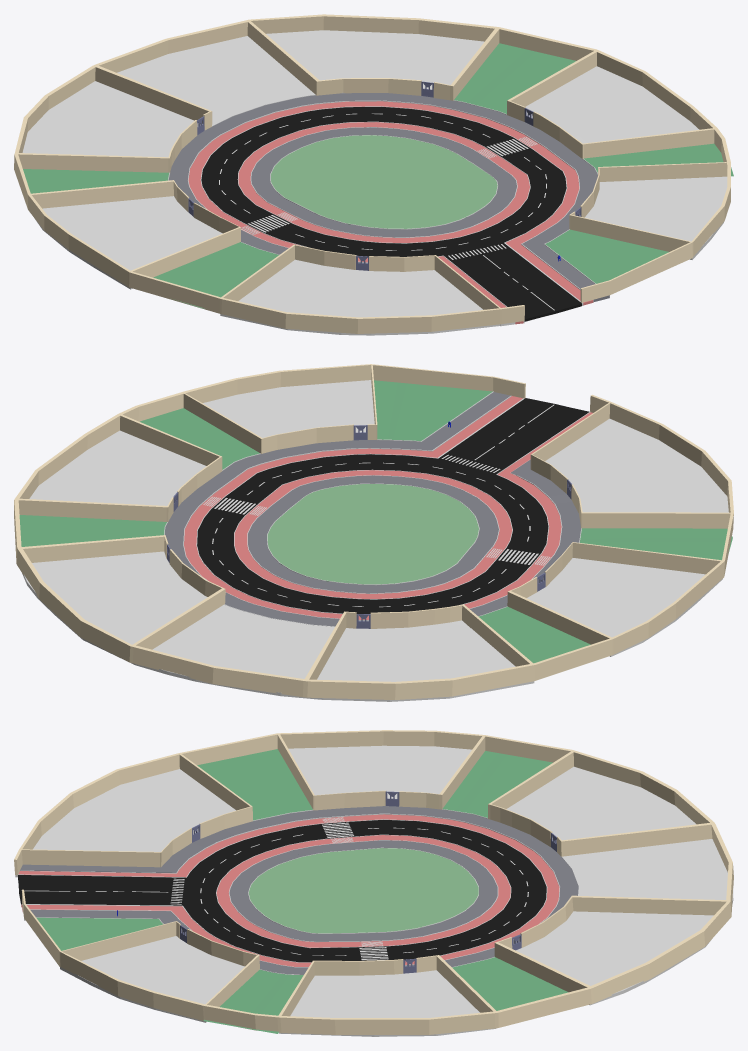
Rendered from Praca (1).fbx.
The picture shows the model from 3 angles, top to bottom: view 1: azimuth 30°, elevation 25°; view 2: azimuth 150°, elevation 25°; view 3: azimuth 270°, elevation 25°; orthographic projection. The views are drawn at different scales.
Visible parts, largest first — view 1: meio.001, Muro.020, Muro.005, Muro.004, Muro.013, Muro.014, Muro.018, Muro.009, Muro.007, Muro.016, Muro.002, Muro.011 (+7 smaller); view 2: meio.001, Muro.020, Muro.011, Muro.019, Muro.010, Muro.002, Muro.006, Muro.015, Muro.004, Muro.013, Muro.008, Muro.017 (+7 smaller); view 3: meio.001, Muro.020, Muro.007, Muro.017, Muro.003, Muro.012, Muro.016, Muro.010, Muro.005, Muro.018, Muro.006, Muro.019 (+7 smaller).
Part boxes in pixels (box(x1,y1,x2,y2)): meio.001: box(22, 30, 733, 335); Muro.020: box(14, 14, 730, 333); Muro.005: box(14, 152, 170, 172); Muro.004: box(31, 180, 173, 208); Muro.013: box(583, 127, 717, 158); Muro.014: box(598, 162, 730, 181); Muro.018: box(293, 244, 434, 271); Muro.009: box(320, 78, 453, 100); Muro.007: box(93, 64, 210, 123); Muro.016: box(570, 214, 693, 257); Muro.002: box(127, 227, 240, 286); Muro.011: box(507, 49, 598, 115); meio.001: box(19, 380, 732, 701); Muro.020: box(14, 364, 733, 699); Muro.011: box(14, 498, 168, 521); Muro.019: box(582, 512, 733, 528); Muro.010: box(16, 535, 164, 564); Muro.002: box(572, 542, 724, 577); Muro.006: box(344, 605, 462, 628); Muro.015: box(263, 424, 377, 453); Muro.004: box(508, 591, 611, 644); Muro.013: box(117, 413, 220, 465); Muro.008: box(130, 588, 225, 649); Muro.017: box(530, 394, 611, 469); meio.001: box(15, 745, 733, 1036); Muro.020: box(19, 730, 733, 1034); Muro.007: box(562, 822, 714, 856); Muro.017: box(14, 849, 161, 875); Muro.003: box(315, 790, 442, 810); Muro.012: box(313, 955, 436, 975); Muro.016: box(59, 921, 176, 966); Muro.010: box(495, 942, 594, 1003); Muro.005: box(488, 750, 575, 819); Muro.018: box(161, 806, 252, 866); Muro.006: box(490, 804, 562, 856); Muro.019: box(177, 753, 251, 810).
Bounding box in the file's own units: 21412 × 672 × 22498.
